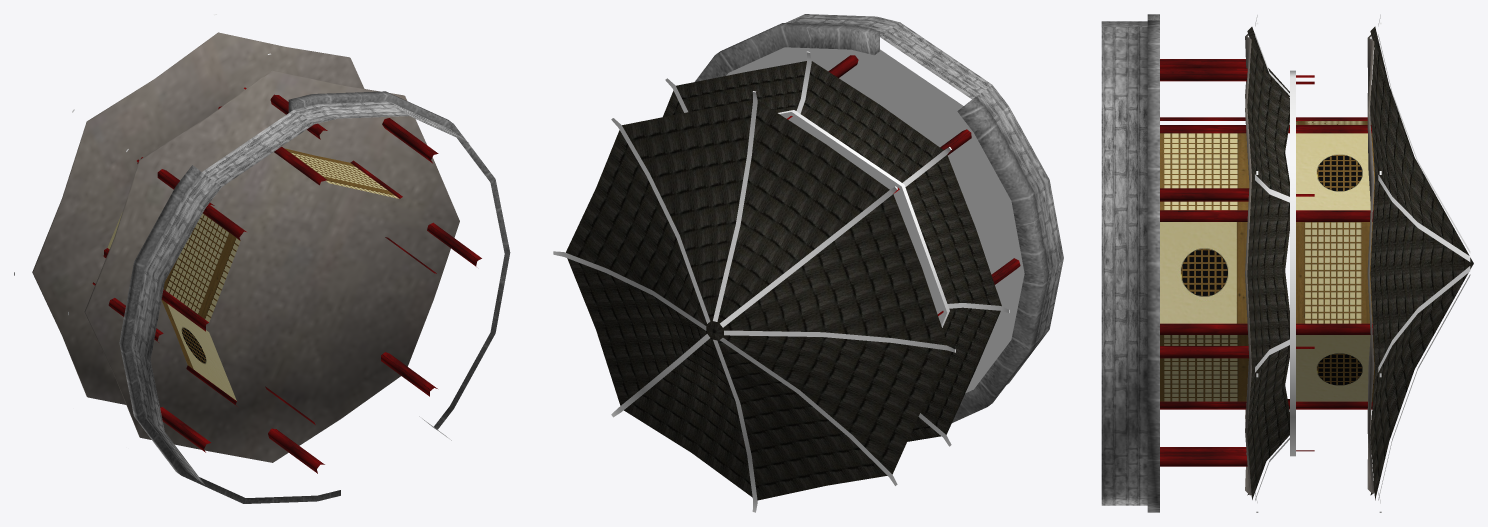
Rendered from pagoda1_LOD200.glb.
3 renders of one model, left to right at view 1: azimuth 30°, elevation 25°; view 2: azimuth 150°, elevation 25°; view 3: azimuth 270°, elevation 25°, orthographic. The views are drawn at different scales.
Visible parts, largest first — view 1: shintoB.jpg__, roadRoundBrick.jpg__, pagoda_wall.jpg__, JapanwoodBridge.jpg__; view 2: shintoB.jpg__, stktex_generic_WoodA.png__, roadRoundBrick.jpg__, JapanwoodBridge.jpg__; view 3: shintoB.jpg__, pagoda_wall.jpg__, roadRoundBrick.jpg__, JapanwoodBridge.jpg__, stktex_generic_WoodA.png__.
Boxes of the visible parts, x1=… form: shintoB.jpg__: x1=32, y1=32, x2=459, y2=462; roadRoundBrick.jpg__: x1=119, y1=91, x2=510, y2=503; pagoda_wall.jpg__: x1=107, y1=148, x2=399, y2=400; JapanwoodBridge.jpg__: x1=103, y1=94, x2=481, y2=473; shintoB.jpg__: x1=566, y1=61, x2=1001, y2=500; stktex_generic_WoodA.png__: x1=553, y1=47, x2=1024, y2=512; roadRoundBrick.jpg__: x1=695, y1=14, x2=1063, y2=422; JapanwoodBridge.jpg__: x1=828, y1=55, x2=1020, y2=284; shintoB.jpg__: x1=1245, y1=26, x2=1473, y2=500; pagoda_wall.jpg__: x1=1160, y1=121, x2=1374, y2=401; roadRoundBrick.jpg__: x1=1101, y1=14, x2=1159, y2=512; JapanwoodBridge.jpg__: x1=1160, y1=59, x2=1373, y2=466; stktex_generic_WoodA.png__: x1=1255, y1=14, x2=1470, y2=512.
Bounding box in the file's own units: 17.18 × 17.18 × 12.39.
Materials: 6 (5 with a texture image).
